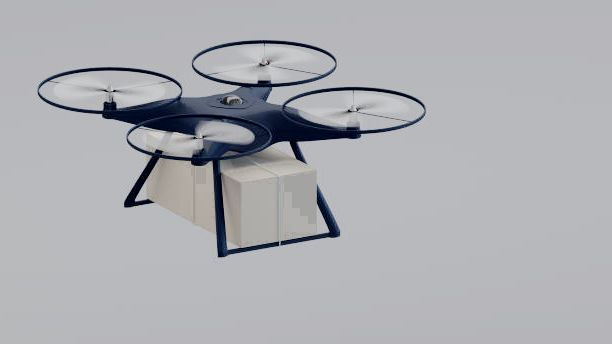Drone: (34, 34, 428, 164)
